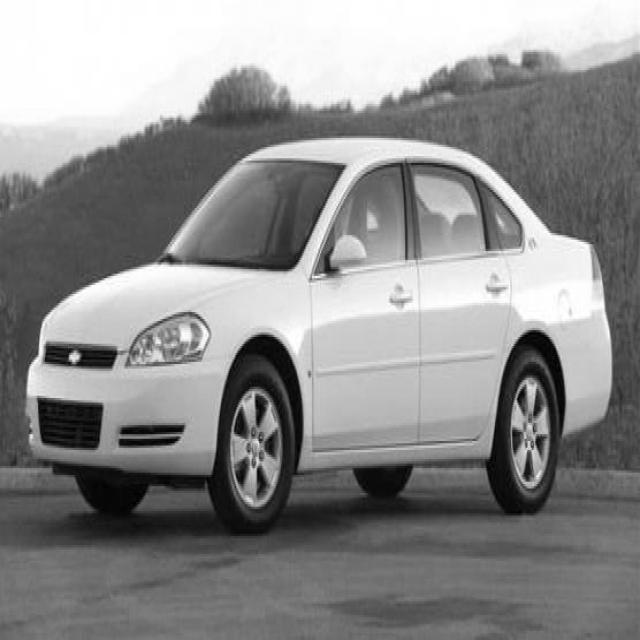car: (24, 134, 614, 532)
